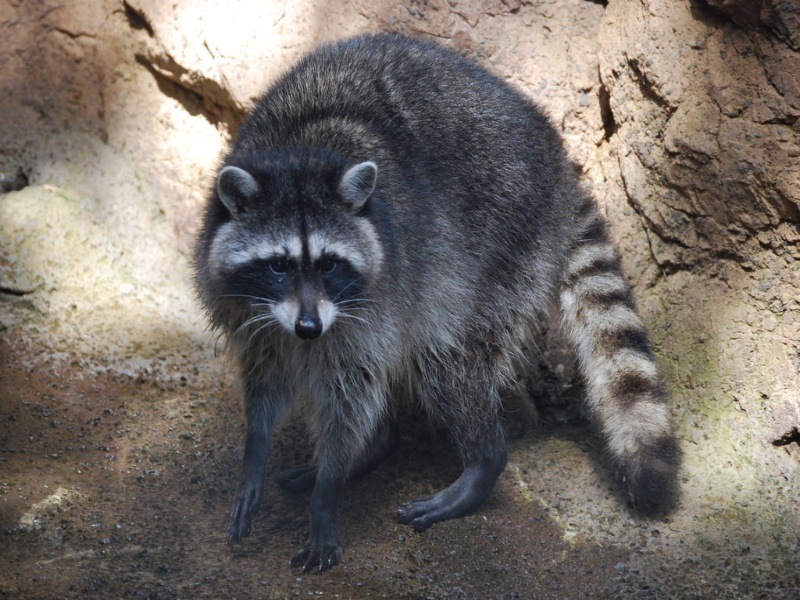raccoon: (195, 31, 681, 576)
